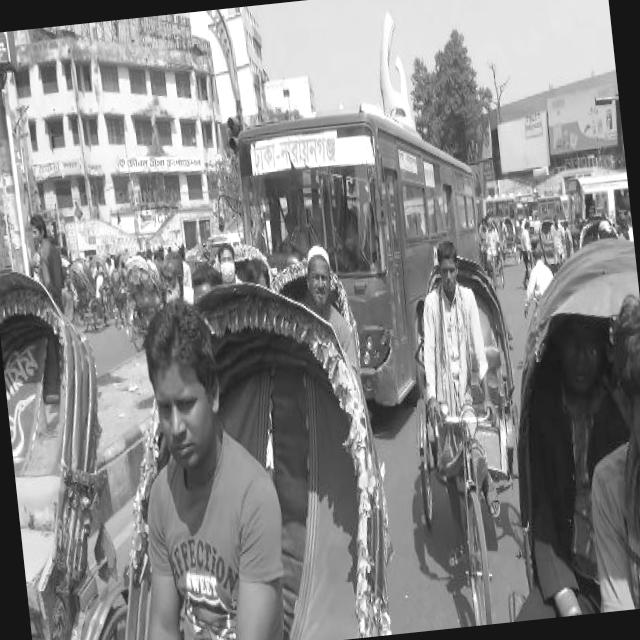bus: (230, 96, 500, 416), (559, 166, 631, 232), (478, 187, 544, 250), (536, 187, 570, 222)
motorcycle: (392, 233, 542, 628), (64, 252, 119, 336), (120, 252, 165, 352), (535, 210, 570, 278), (494, 212, 520, 269)
